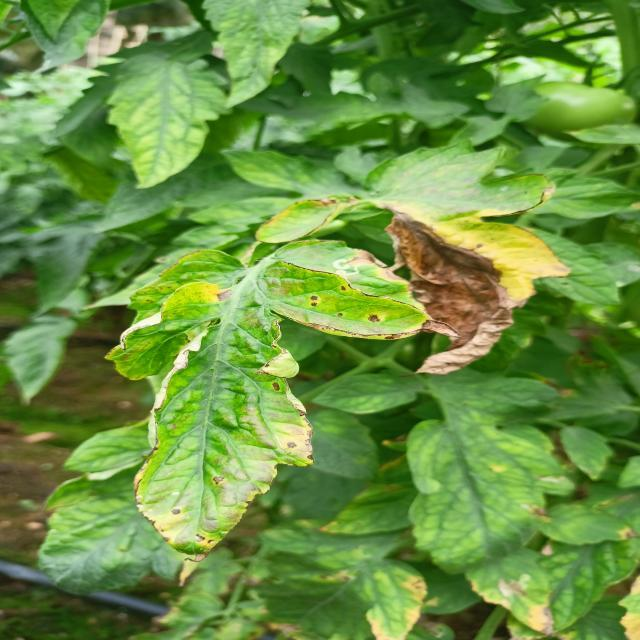Tomato mosaic virus leaf: (128, 370, 318, 566), (255, 256, 468, 346)
